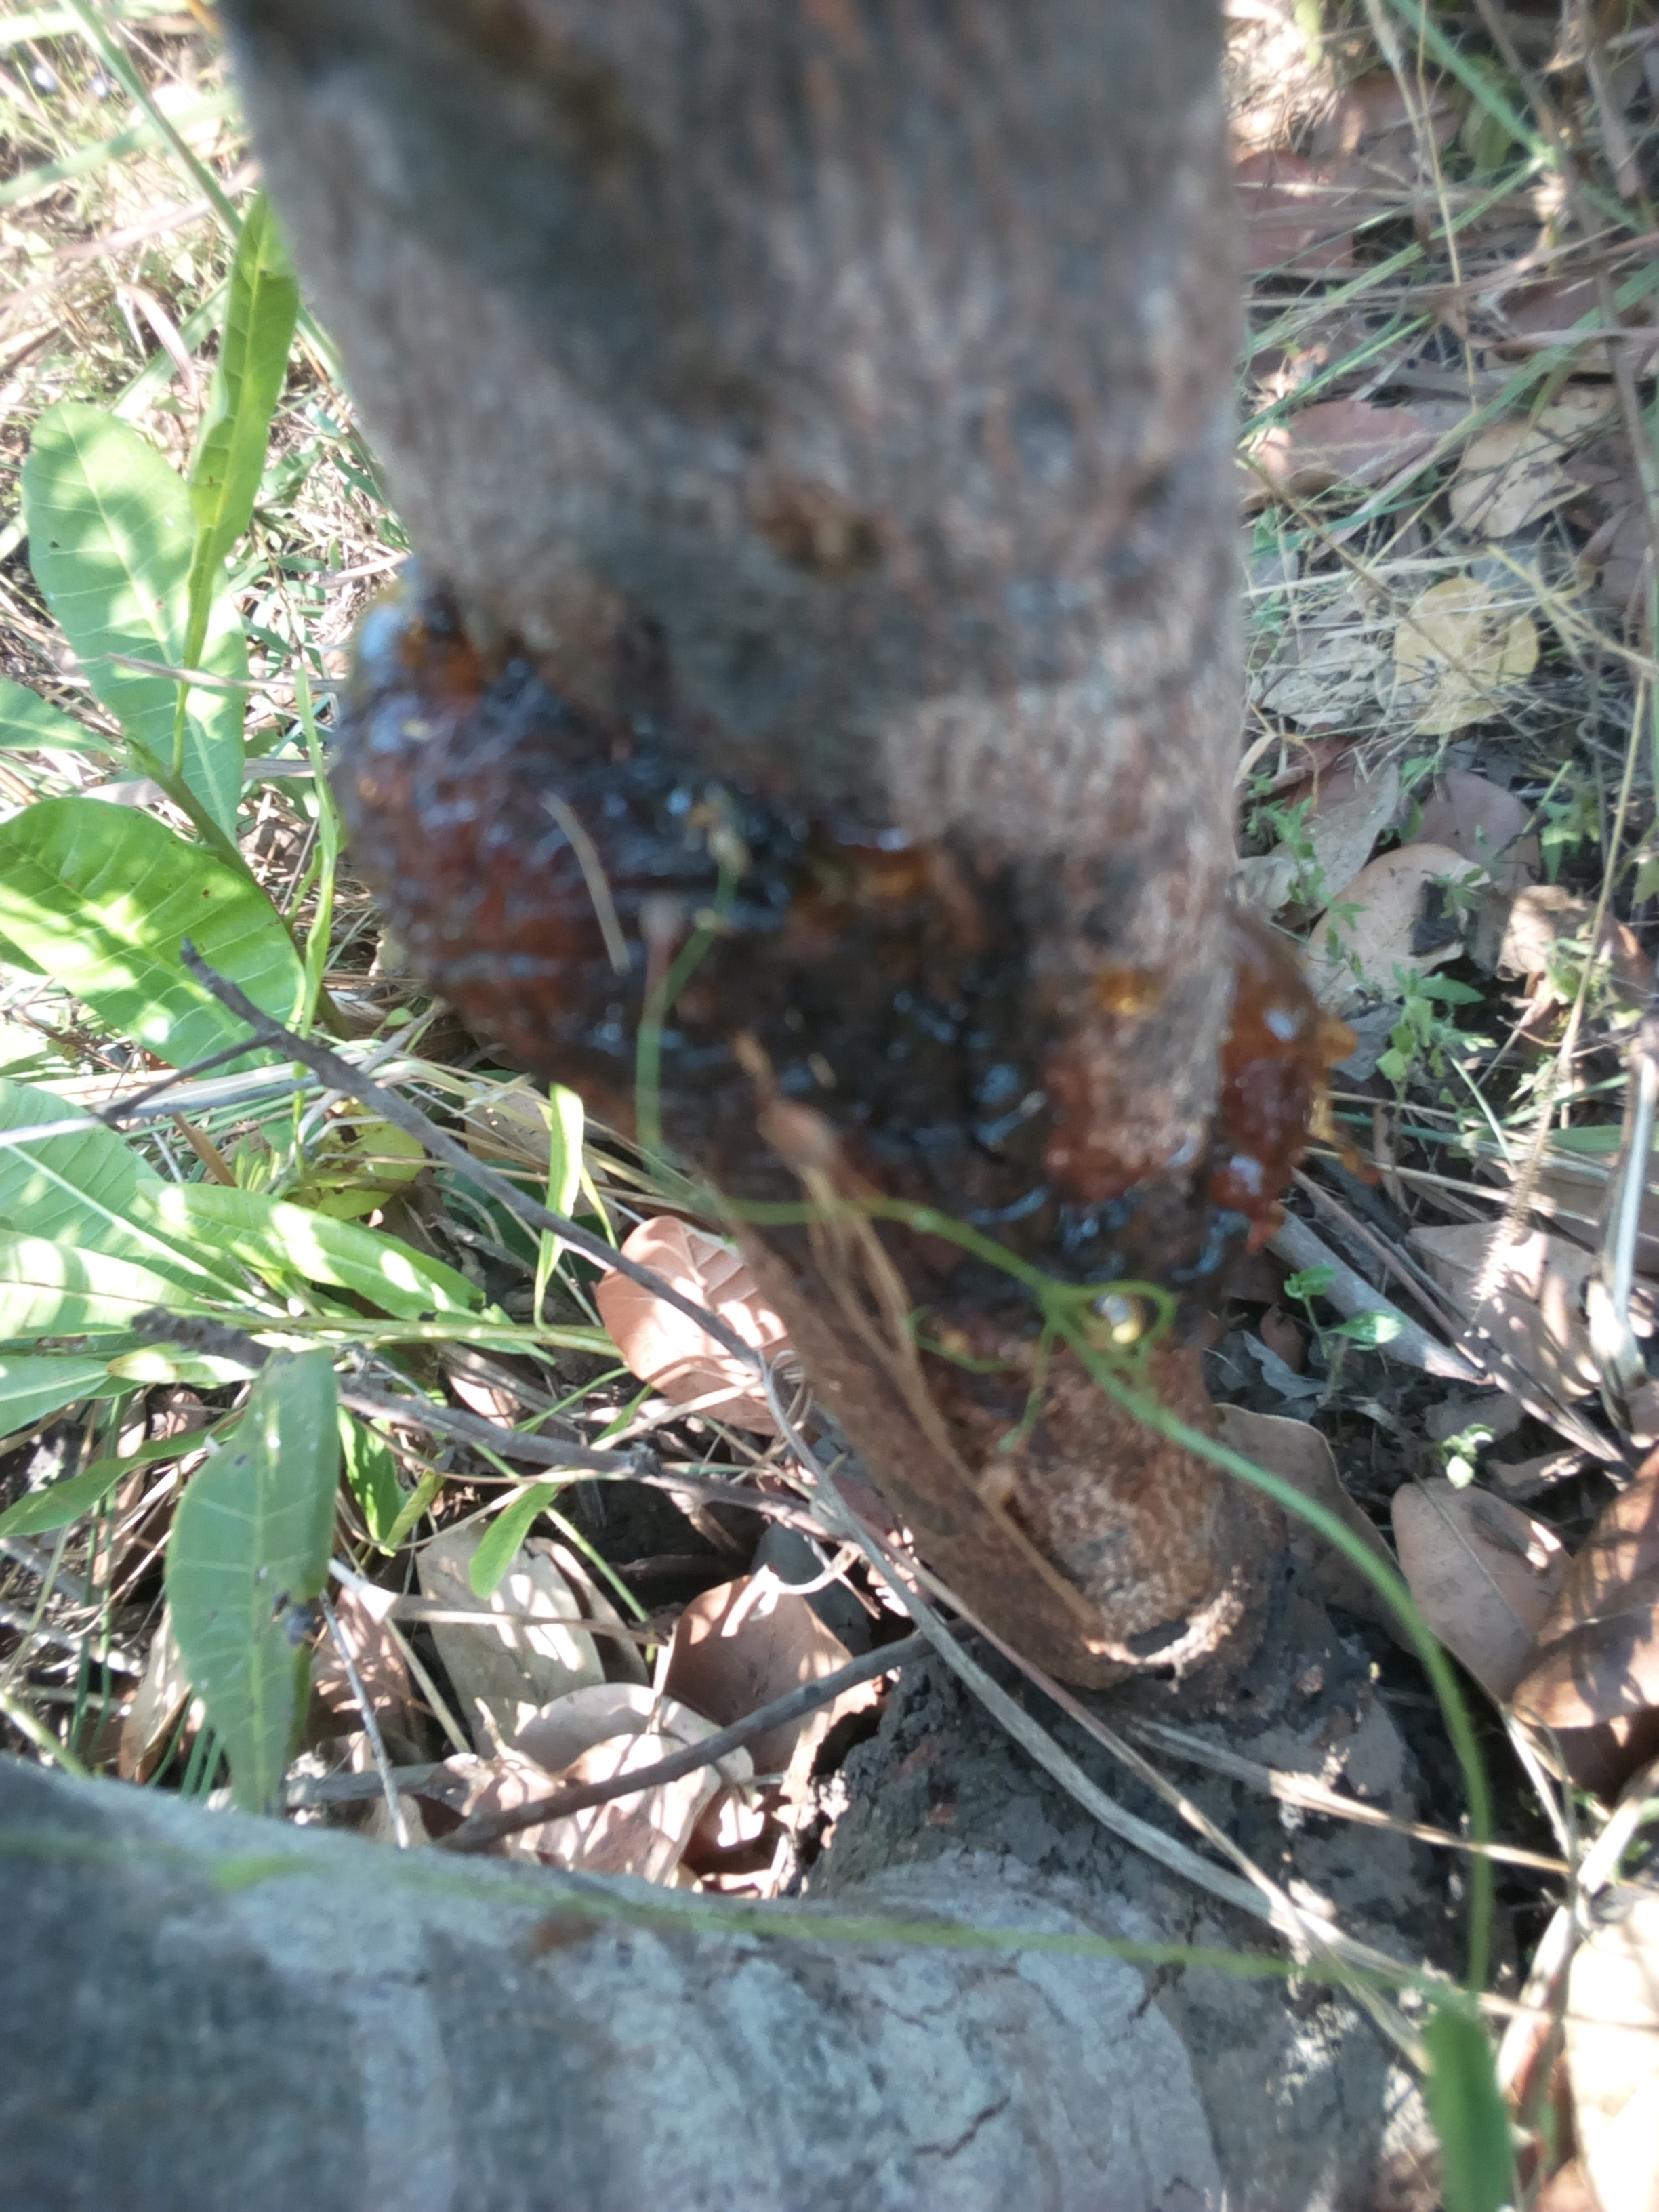Gommose: (349, 641, 1338, 1296)
